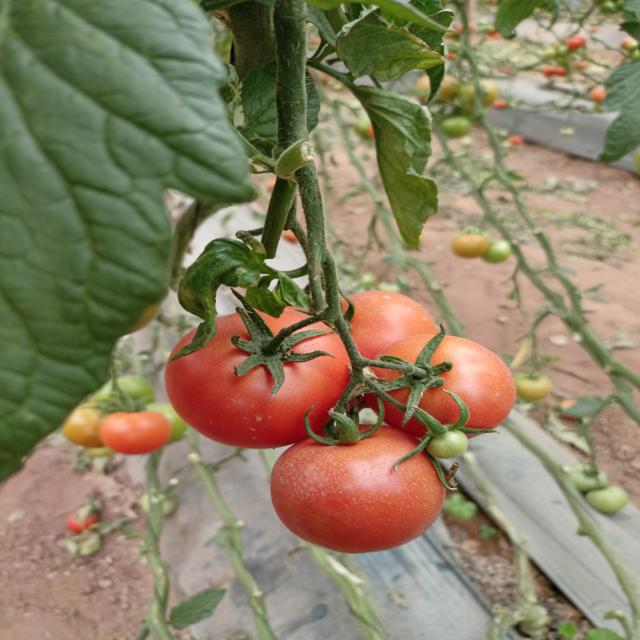Ripe Tomato: (166, 308, 359, 448), (271, 425, 446, 554), (367, 334, 515, 447), (324, 291, 434, 384), (104, 410, 173, 455)
Unripe Tomato: (430, 428, 466, 461)
